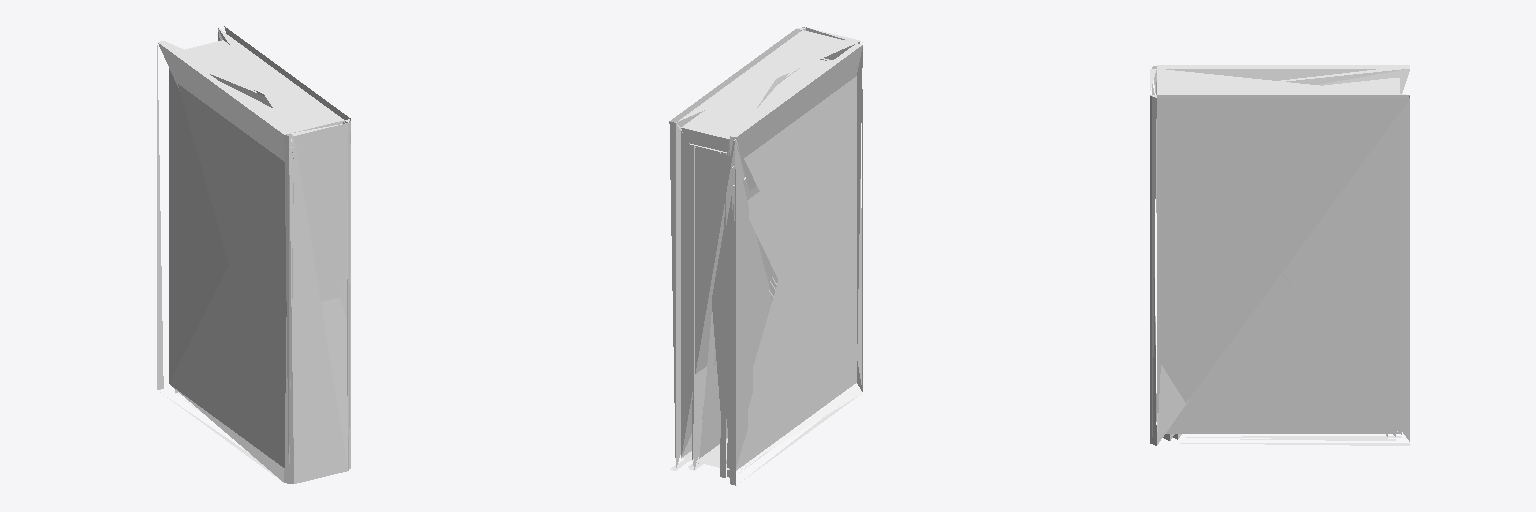
The model's file is books.obj.
3 renders of one model, left to right at view 1: azimuth 30°, elevation 25°; view 2: azimuth 150°, elevation 25°; view 3: azimuth 270°, elevation 25°, orthographic.
Visible parts, largest first — view 1: buch_0001c, buch_0001b; view 2: buch_0001c, buch_0001b, buch_0001d, buch_0001a; view 3: buch_0001c, buch_0001a, buch_0001d.
Part boxes in pixels (x1,y1,x2,y2): buch_0001c: (157,26,350,483); buch_0001b: (199,66,293,158); buch_0001c: (669,27,862,485); buch_0001b: (688,58,832,477); buch_0001d: (688,139,794,477); buch_0001a: (696,76,784,469); buch_0001c: (1150,65,1409,445); buch_0001a: (1157,279,1387,444); buch_0001d: (1164,69,1409,440).
Size of the model in its own units: 2.57 by 12.84 by 8.71.